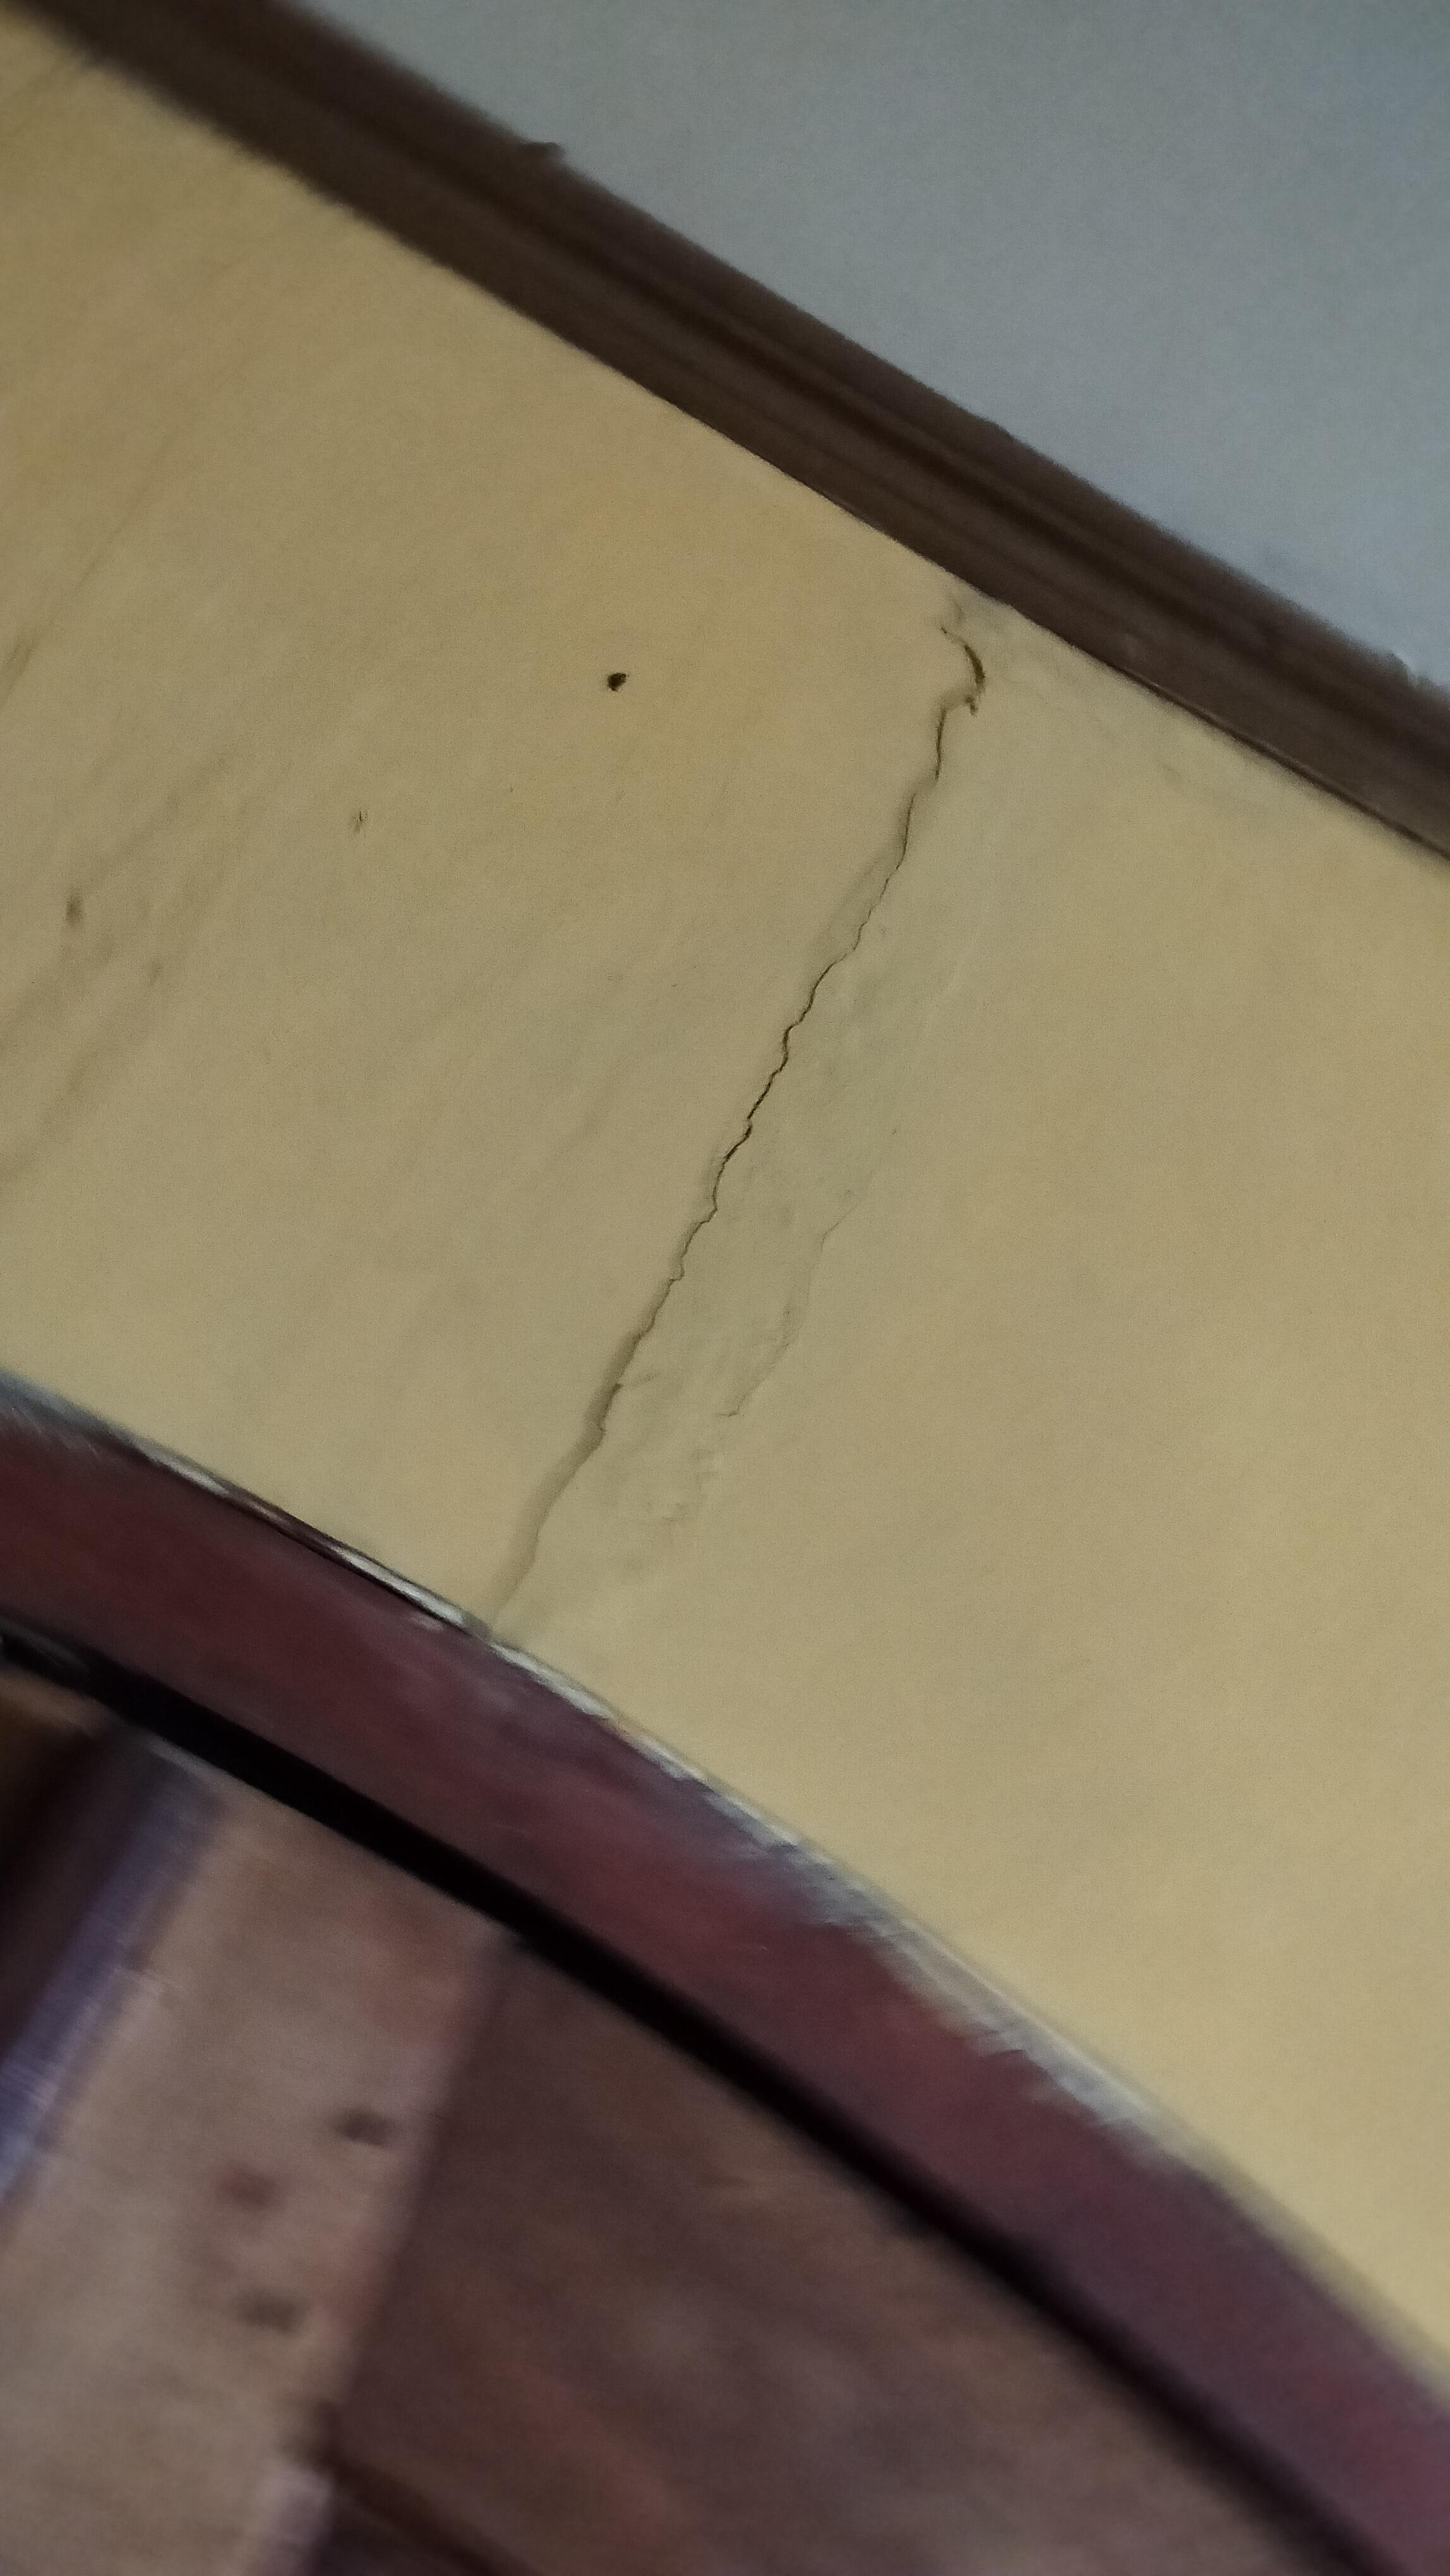Crack: (474, 598, 991, 1638)
